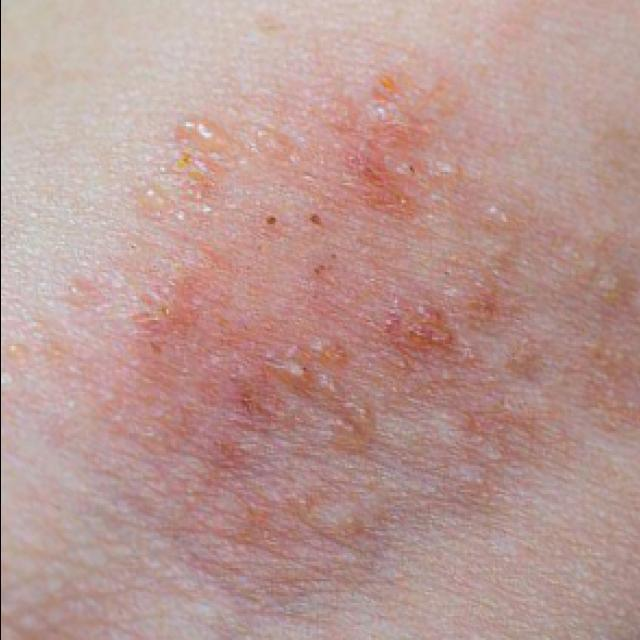AtopicDermatitis: (52, 19, 640, 640)
